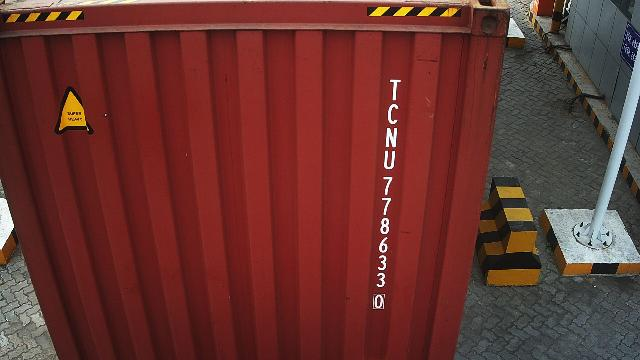0: (373, 294, 385, 308)
3: (376, 272, 386, 288), (377, 255, 387, 271)
6: (379, 236, 389, 254)
7: (382, 176, 393, 196), (382, 196, 392, 216)
8: (380, 217, 390, 235)
C: (387, 103, 399, 125)
N: (384, 128, 398, 148)
T: (389, 79, 401, 101)
U: (384, 150, 396, 170)
